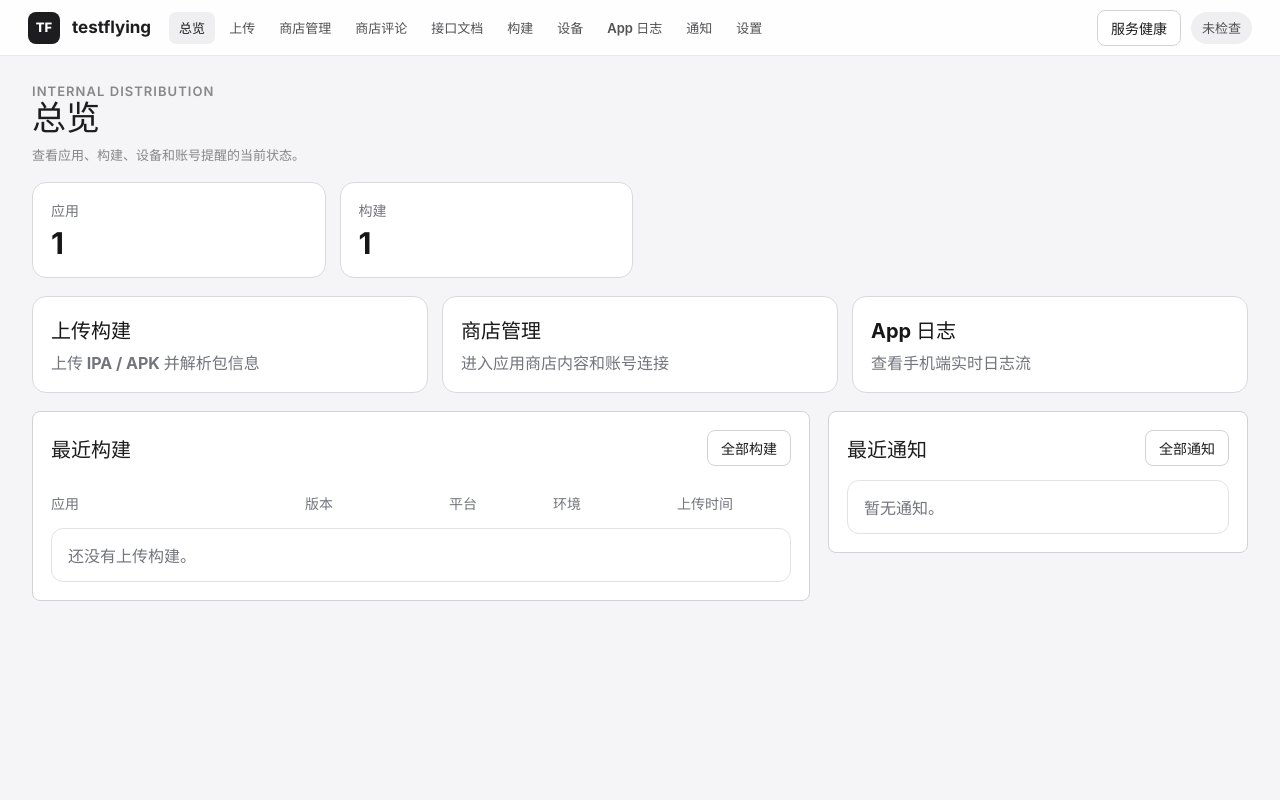
Test: AdminApp › switches build subviews inside the shell
The width and height of the screenshot is (1280, 800).
Expected: the button "服务健康" is shown, [1097, 10, 1181, 46]
Click the button "构建" at (520, 28), box [497, 12, 543, 44]
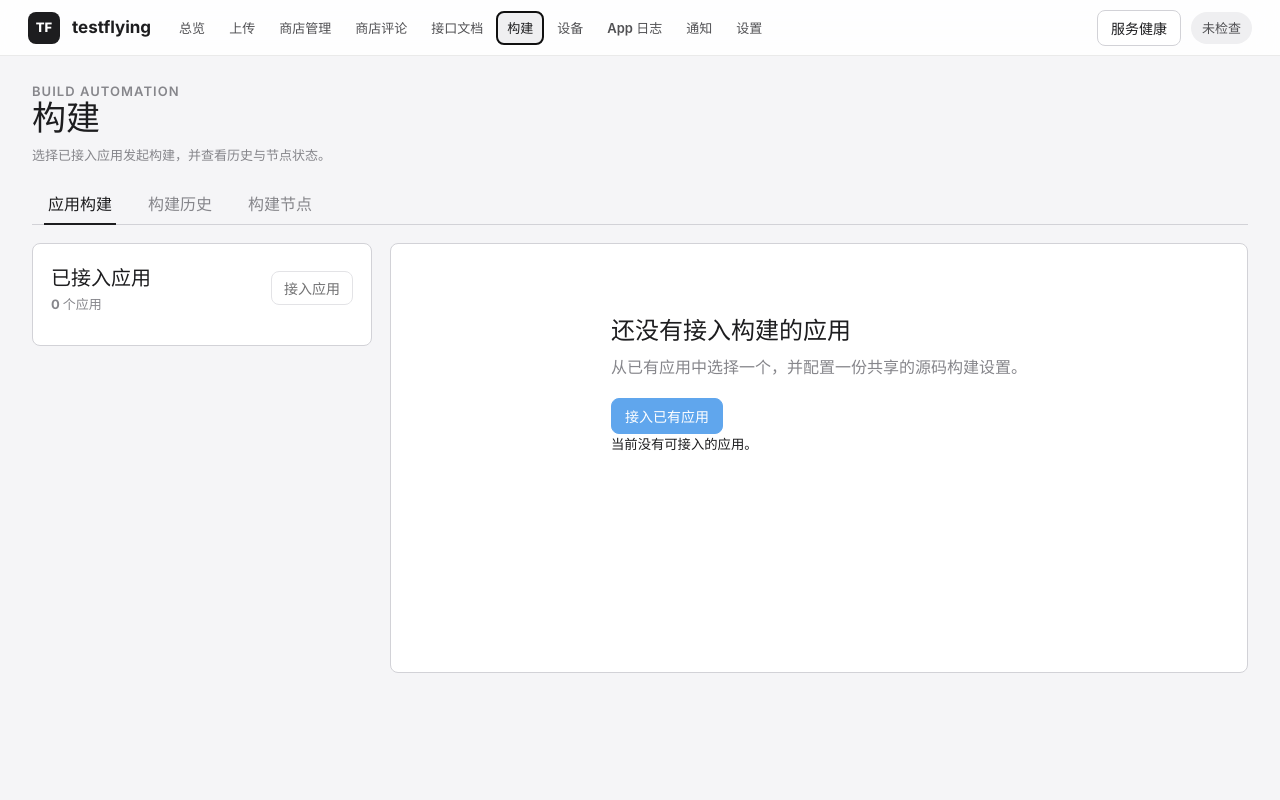
Click the button "构建节点" at (280, 203), box [232, 182, 328, 224]
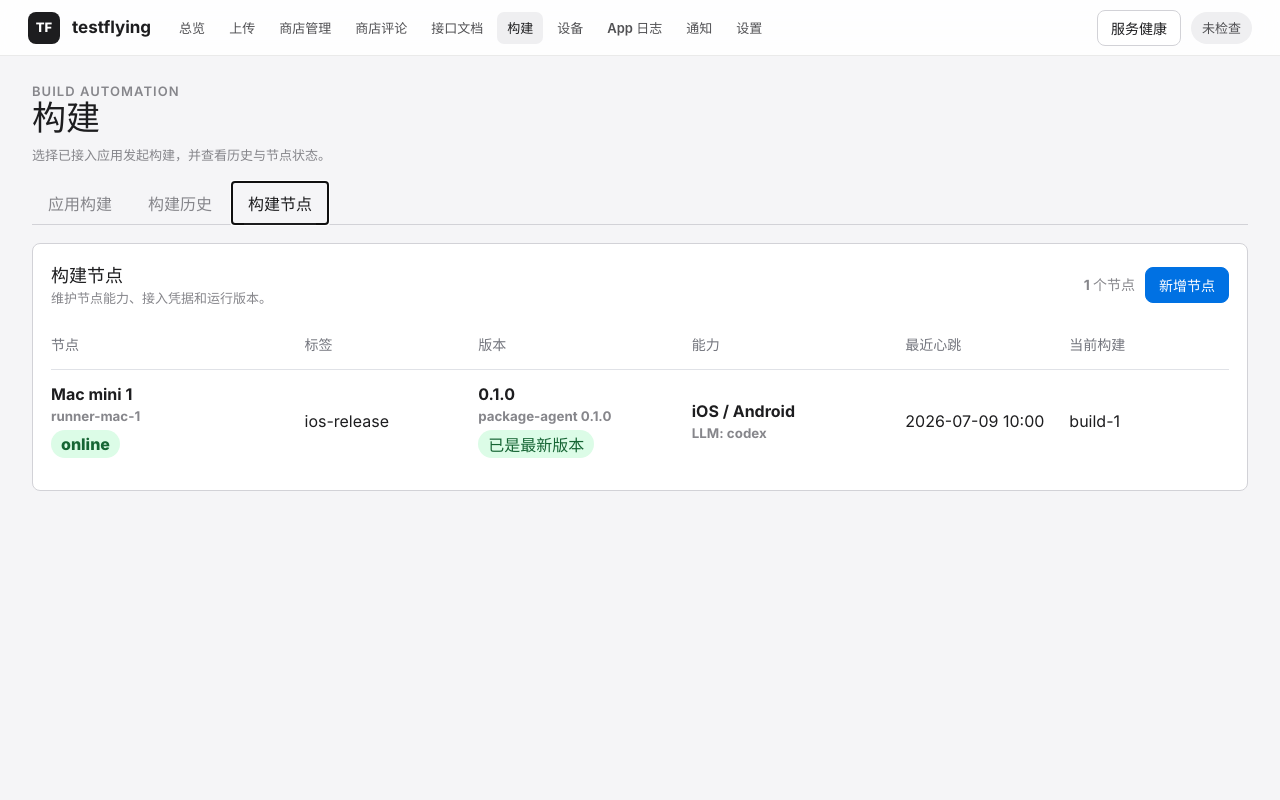
Now the heading "构建" is shown, box [32, 98, 100, 139]
Now the text "Mac mini 1" is shown, box [51, 384, 132, 404]
